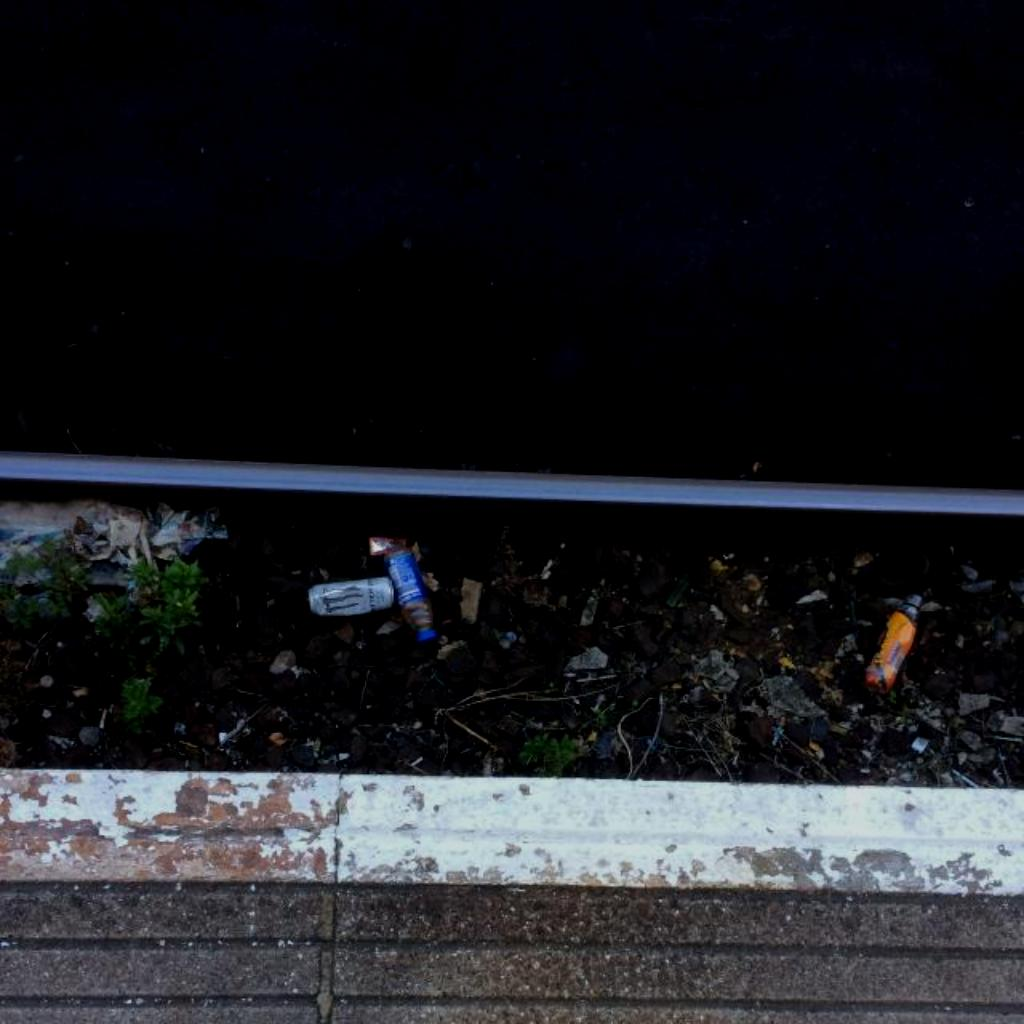garbage: (864, 595, 920, 691), (383, 550, 436, 646), (306, 574, 397, 617)
